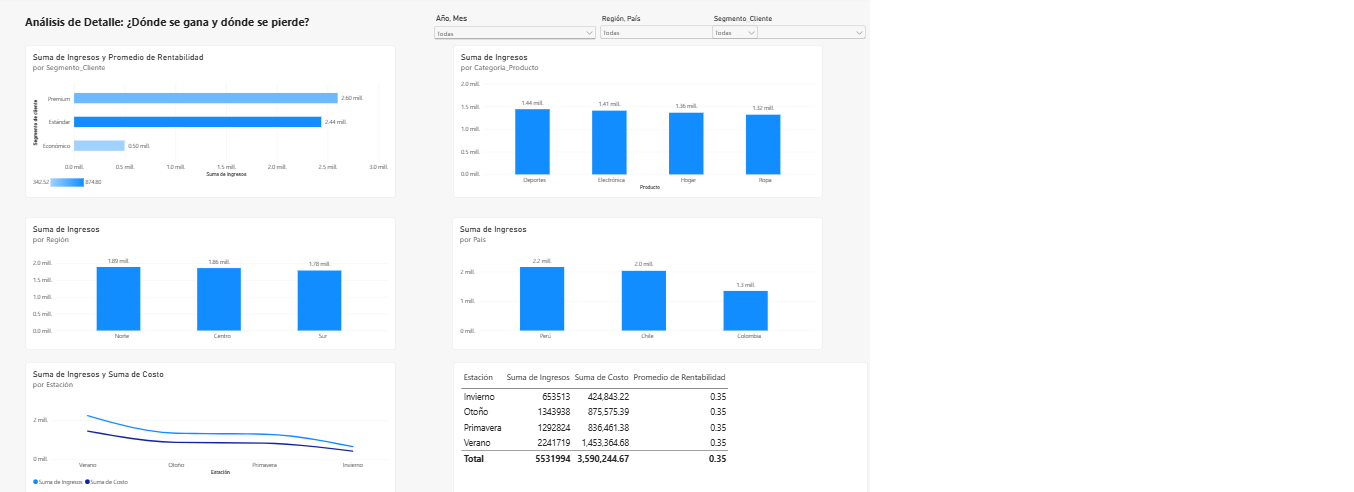

Layout of this report page (visuals, bound fields, positions):
{"tool":"powerbi","page":{"name":"A detalle","canvas":[1920,1080],"ordinal":1},"visuals":[{"type":"clusteredBarChart","fields":{"Category":["Andes_Retail_Group_2024_2025.Segmento_Cliente"],"Y":["Sum(Andes_Retail_Group_2024_2025.Ingresos)"]},"box":[79.9,105.8,801.4,330.5],"z":0},{"type":"textbox","box":[79.9,38.9,1250.6,67],"z":1000},{"type":"columnChart","fields":{"Category":["Andes_Retail_Group_2024_2025.Categoría_Producto"],"Y":["Sum(Andes_Retail_Group_2024_2025.Ingresos)"]},"box":[1004.4,105.8,799.2,330.5],"z":1001},{"type":"columnChart","fields":{"Category":["Andes_Retail_Group_2024_2025.Región"],"Y":["Sum(Andes_Retail_Group_2024_2025.Ingresos)"]},"box":[79.9,477.4,801.4,287.3],"z":1002},{"type":"columnChart","fields":{"Category":["Andes_Retail_Group_2024_2025.País"],"Y":["Sum(Andes_Retail_Group_2024_2025.Ingresos)"]},"box":[1002.2,477.4,801.4,287.3],"z":1003},{"type":"lineChart","fields":{"Category":["Andes_Retail_Group_2024_2025.Estación"],"Y":["Sum(Andes_Retail_Group_2024_2025.Ingresos)","Sum(Andes_Retail_Group_2024_2025.Costo)"]},"box":[79.9,790.6,801.4,289.4],"z":1004},{"type":"tableEx","fields":{"Values":["Andes_Retail_Group_2024_2025.Estación","Sum(Andes_Retail_Group_2024_2025.Ingresos)","Sum(Andes_Retail_Group_2024_2025.Costo)","Avg(Andes_Retail_Group_2024_2025.Rentabilidad)"]},"box":[1004.4,790.6,896.4,289.4],"z":1005},{"type":"slicer","fields":{"Values":["Andes_Retail_Group_2024_2025.Fecha_Pedido.Variación.Jerarquía de fechas.Año","Andes_Retail_Group_2024_2025.Fecha_Pedido.Variación.Jerarquía de fechas.Mes"]},"box":[959,38.9,358.6,138.2],"z":1006},{"type":"slicer","fields":{"Values":["Andes_Retail_Group_2024_2025.Región","Andes_Retail_Group_2024_2025.País"]},"box":[1317.6,38.9,349.9,84.2],"z":1007},{"type":"slicer","fields":{"Values":["Andes_Retail_Group_2024_2025.Segmento_Cliente"]},"box":[1559.5,38.9,341.3,84.2],"z":1008}]}

Visuals, with their boxes on the page's 1920x1080 design canvas (x1, y1, x2, y2). These are canvas units, not pixel positions in the 1354x492 screenshot, which may show the page scaled, cropped or inside an application window:
clusteredBarChart - Andes_Retail_Group_2024_2025.Segmento_Cliente x Sum(Andes_Retail_Group_2024_2025.Ingresos): box=[80, 106, 881, 436]
textbox: box=[80, 39, 1330, 106]
columnChart - Andes_Retail_Group_2024_2025.Categoría_Producto x Sum(Andes_Retail_Group_2024_2025.Ingresos): box=[1004, 106, 1804, 436]
columnChart - Andes_Retail_Group_2024_2025.Región x Sum(Andes_Retail_Group_2024_2025.Ingresos): box=[80, 477, 881, 765]
columnChart - Andes_Retail_Group_2024_2025.País x Sum(Andes_Retail_Group_2024_2025.Ingresos): box=[1002, 477, 1804, 765]
lineChart - Andes_Retail_Group_2024_2025.Estación x Sum(Andes_Retail_Group_2024_2025.Ingresos): box=[80, 791, 881, 1080]
tableEx - Andes_Retail_Group_2024_2025.Estación x Sum(Andes_Retail_Group_2024_2025.Ingresos): box=[1004, 791, 1901, 1080]
slicer - Andes_Retail_Group_2024_2025.Fecha_Pedido.Variación.Jerarquía de fechas.Año x Andes_Retail_Group_2024_2025.Fecha_Pedido.Variación.Jerarquía de fechas.Mes: box=[959, 39, 1318, 177]
slicer - Andes_Retail_Group_2024_2025.Región x Andes_Retail_Group_2024_2025.País: box=[1318, 39, 1668, 123]
slicer - Andes_Retail_Group_2024_2025.Segmento_Cliente: box=[1560, 39, 1901, 123]
